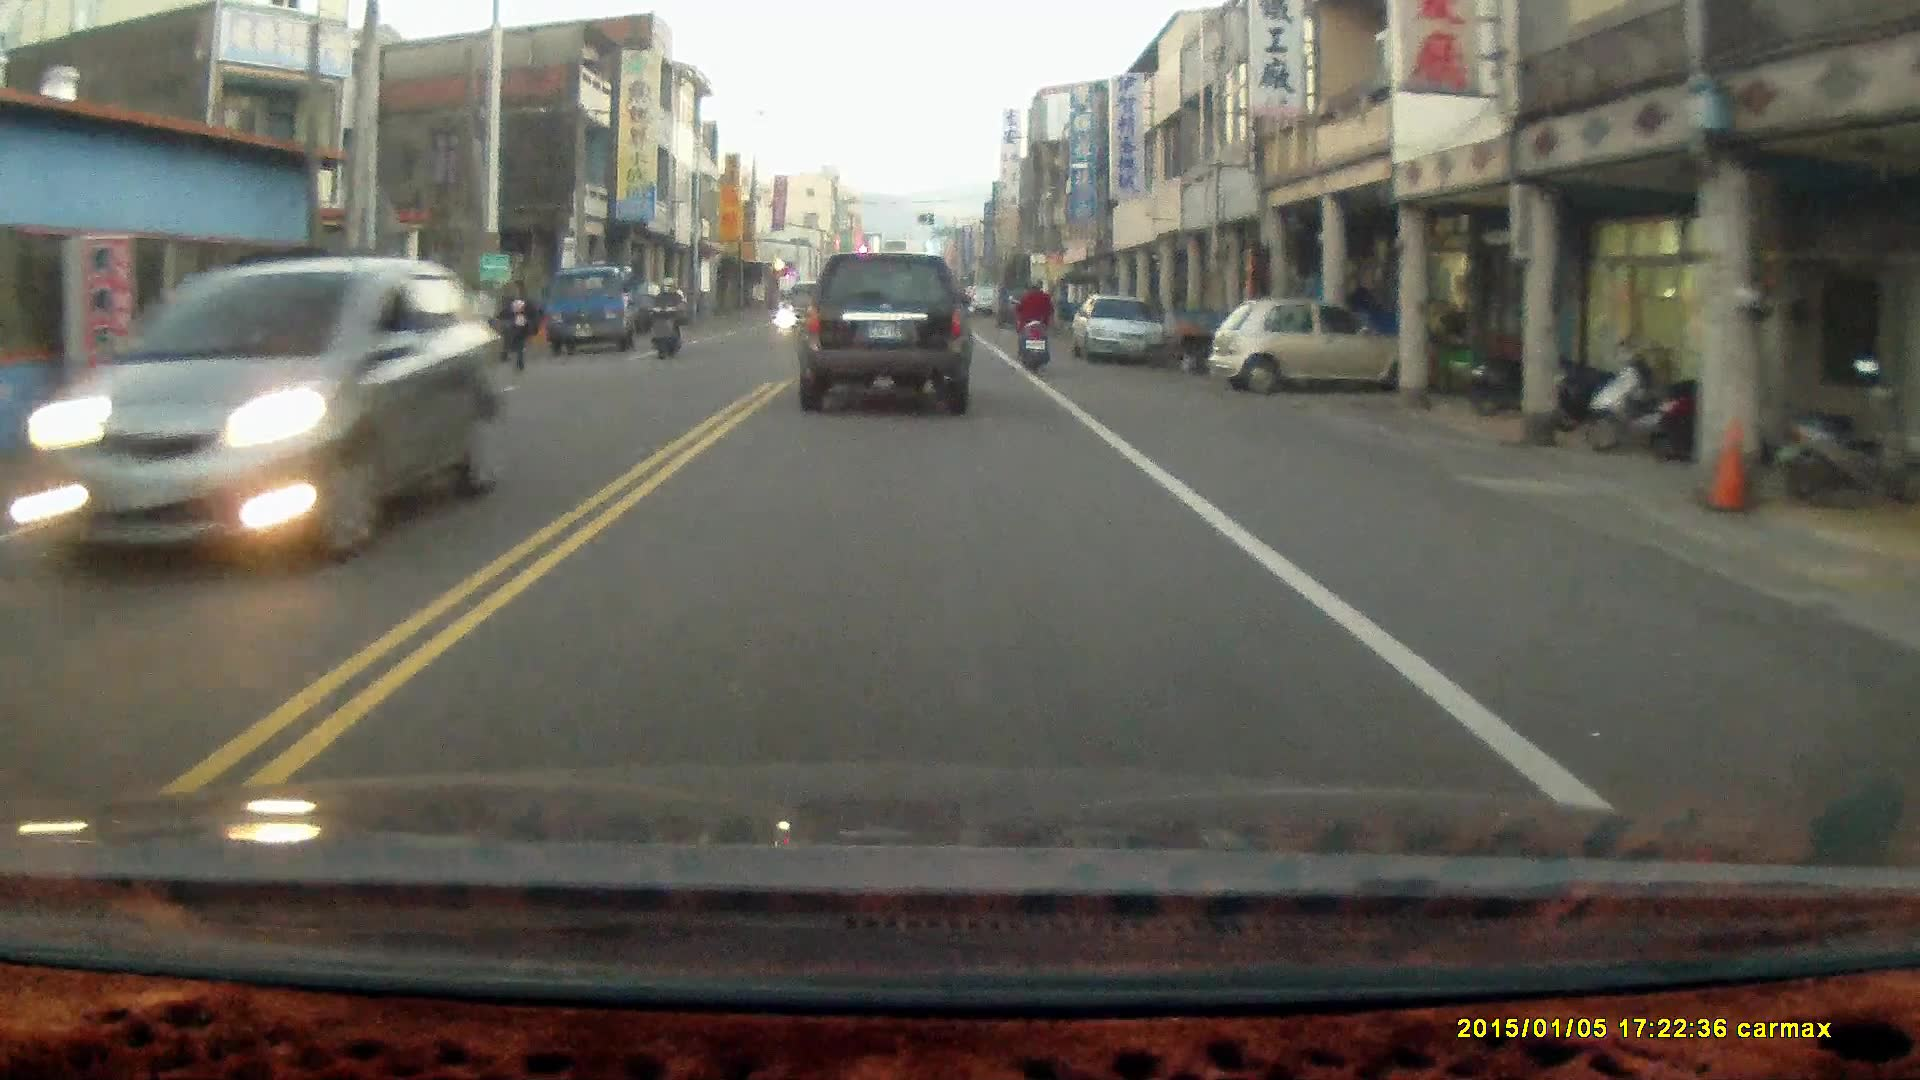pedestrian: (503, 280, 541, 372)
rider: (1013, 278, 1052, 376), (642, 277, 681, 360)
vehicle: (21, 258, 489, 579), (793, 251, 974, 420), (1213, 300, 1430, 397), (547, 264, 670, 356), (1072, 298, 1171, 370)
